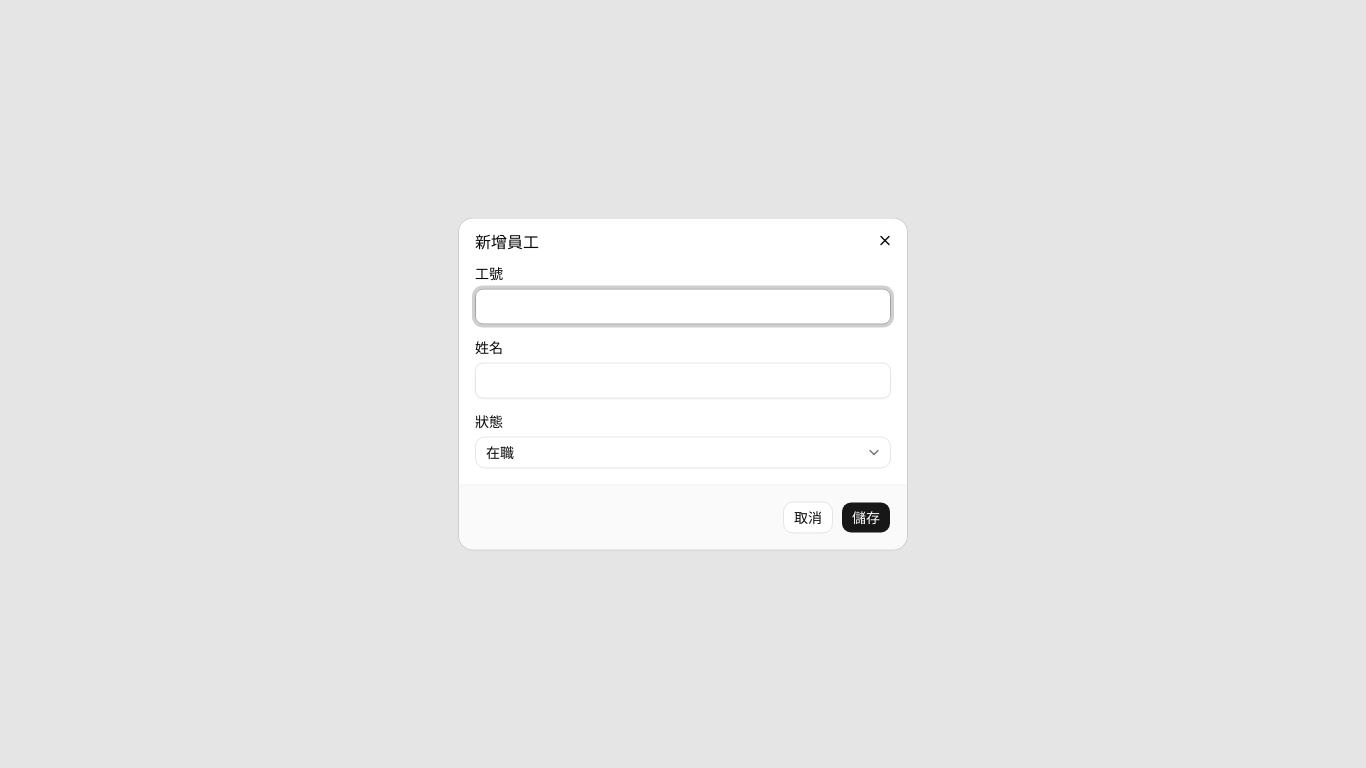
Test: EmployeeForm 員工表單 › 工號與姓名留空儲存時顯示「請填寫工號與姓名」
Expected: the dialog is shown, [459, 218, 907, 550]
Click the button "儲存".
click(866, 518)  # box [841, 502, 891, 534]
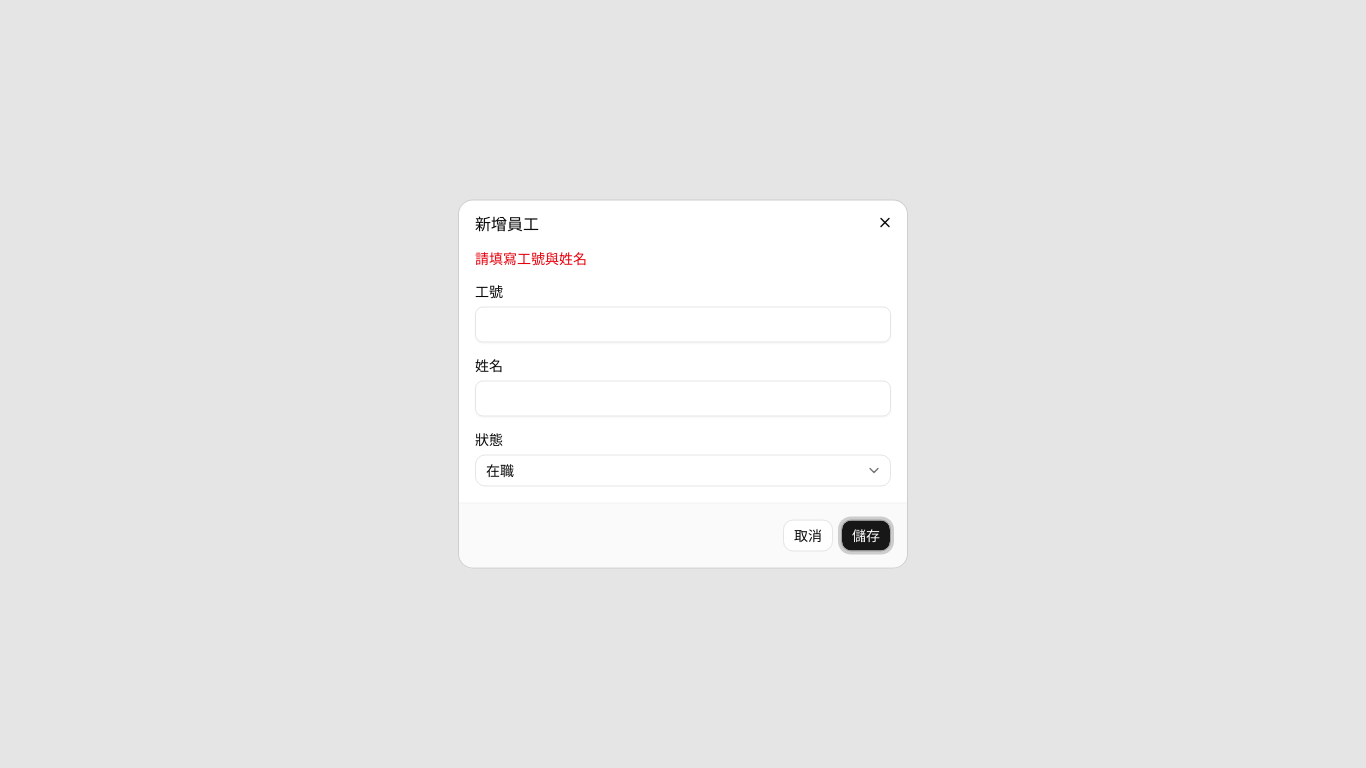
Expected: the text "請填寫工號與姓名" is shown, [475, 250, 587, 266]
